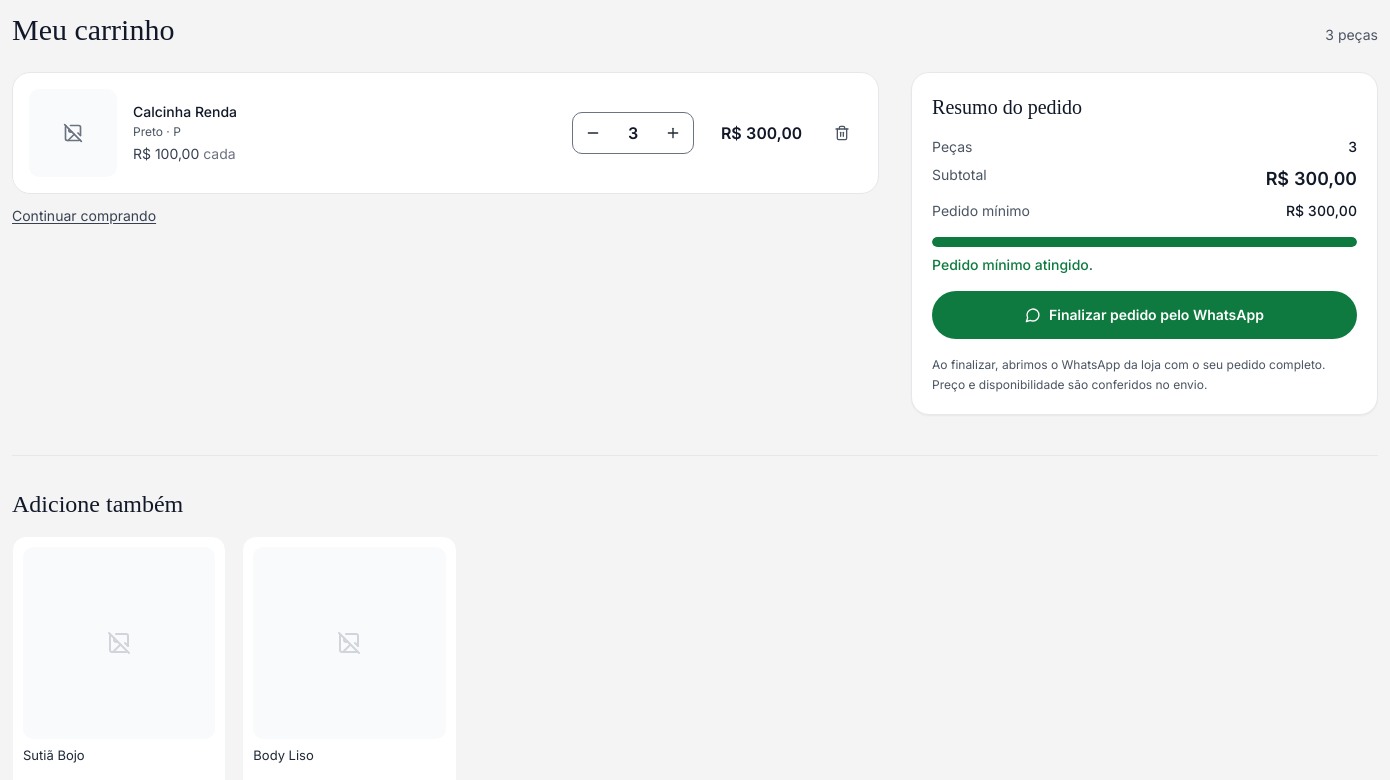
Test: pedido mínimo e finalização pelo WhatsApp › se o servidor recusa por mínimo (422), não abre o WhatsApp
Click the button "Finalizar pedido pelo WhatsApp": x=1145, y=315 top-left (932, 291), bottom-right (1357, 339)
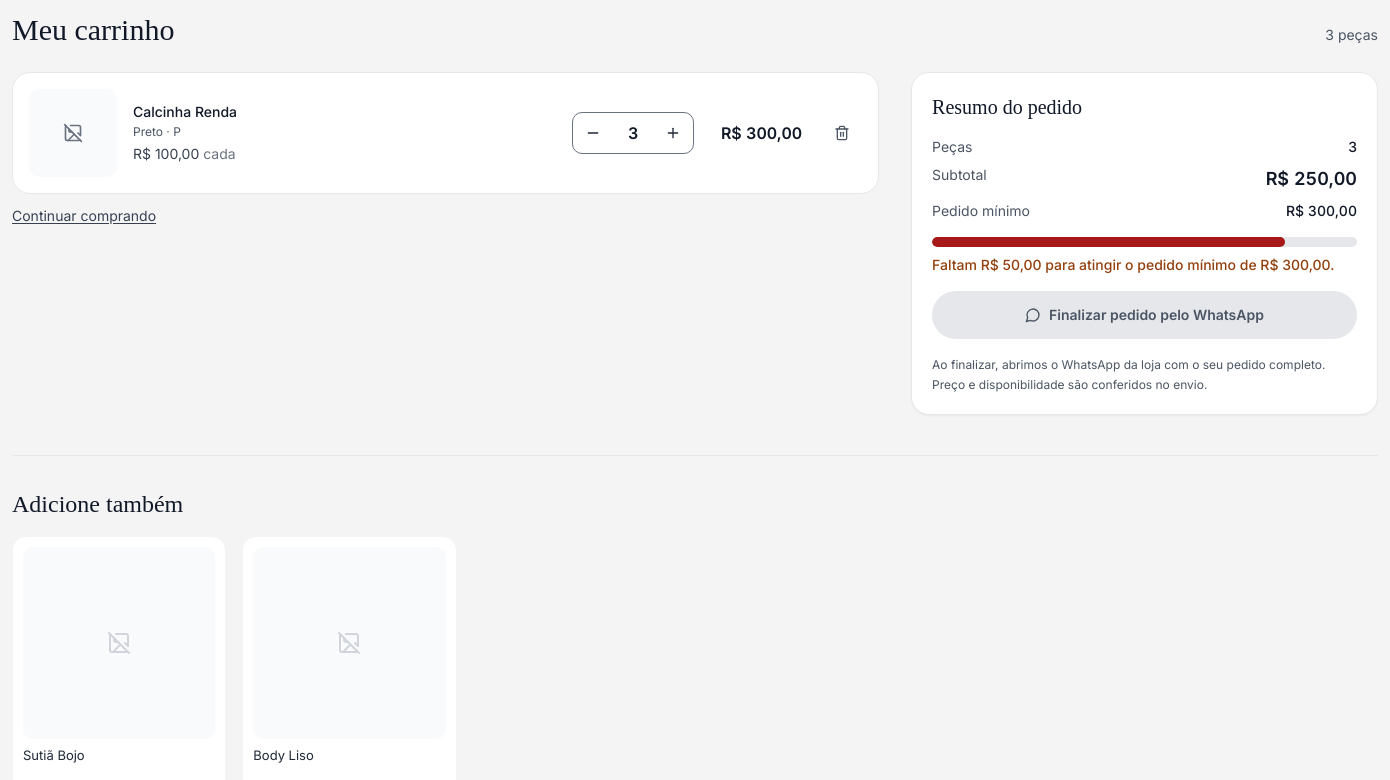
Now the text "Faltam R$ 50,00 para atingir o pedido mínimo de R$ 300,00." is shown, box top-left (932, 255), bottom-right (1357, 275)
